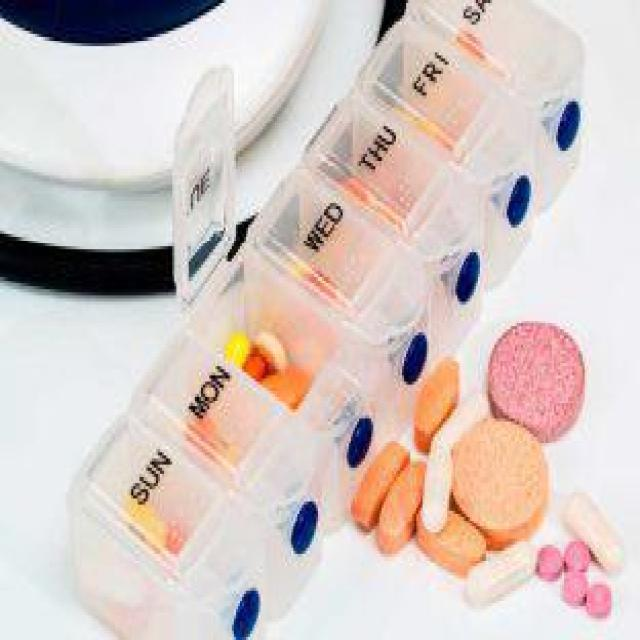B3: (352, 298, 626, 637)
